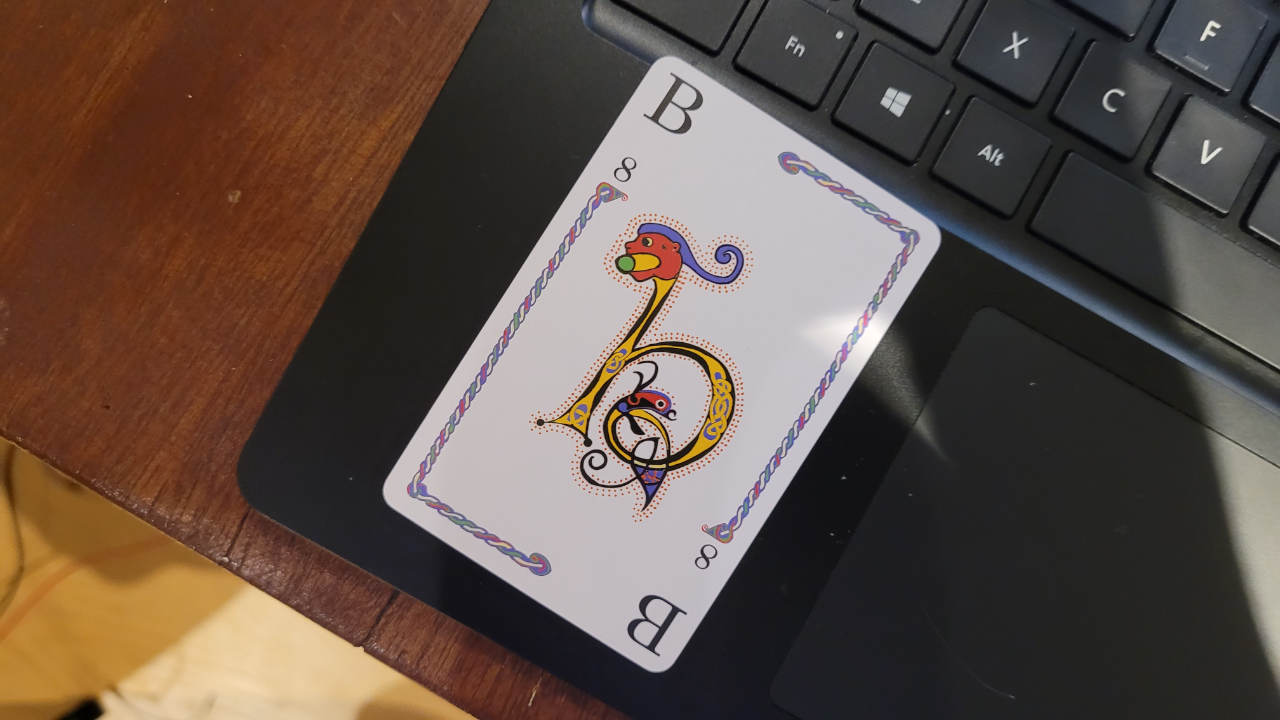quiddler_card: (364, 48, 949, 675)
